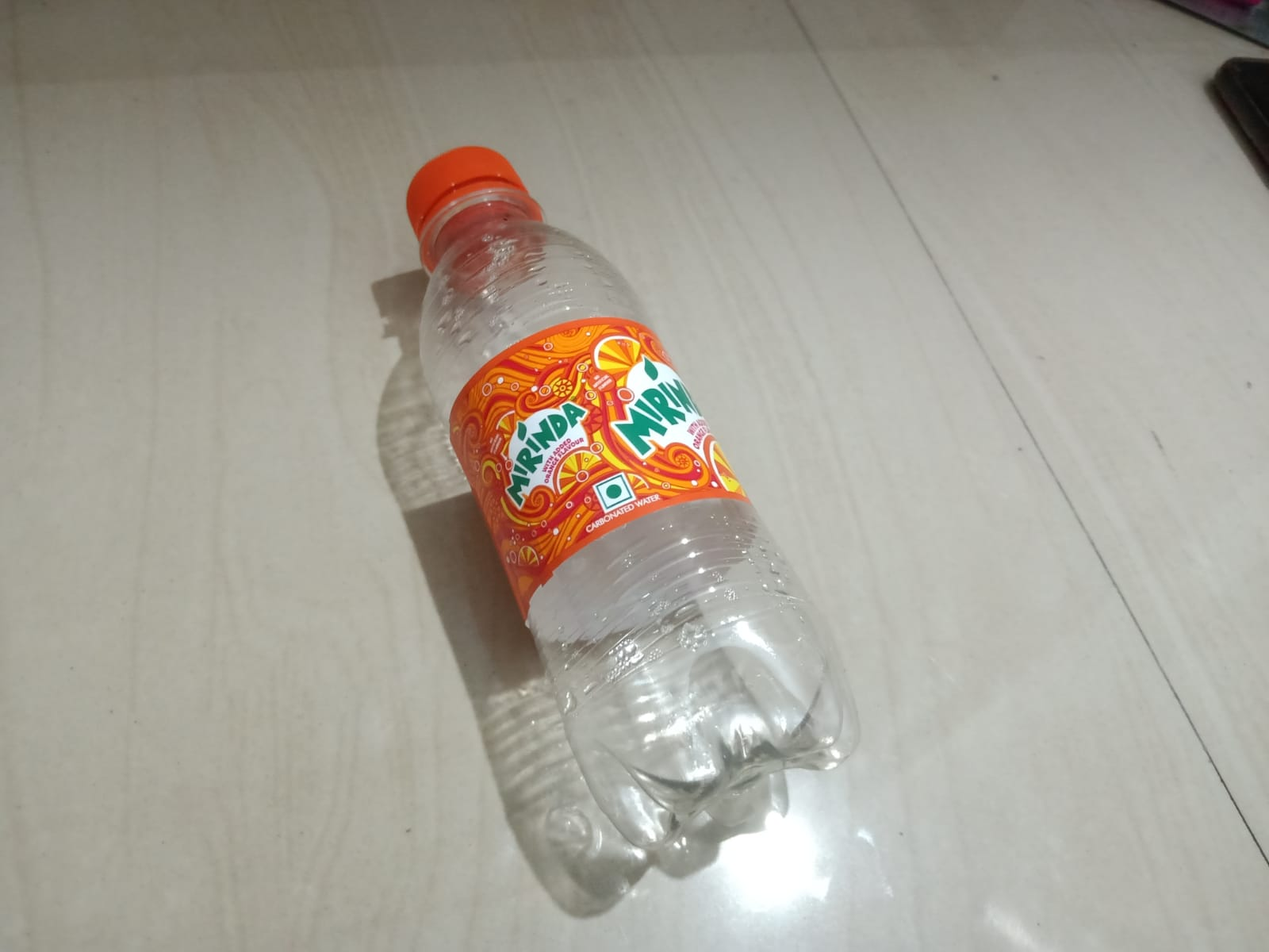plastic: (288, 149, 869, 871)
